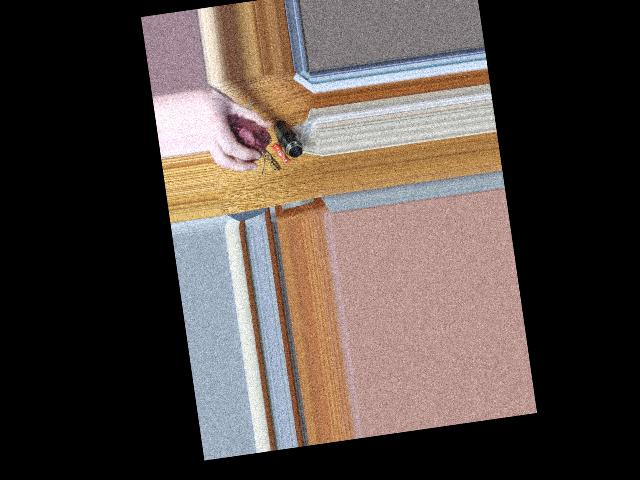onion: (225, 109, 269, 160)
